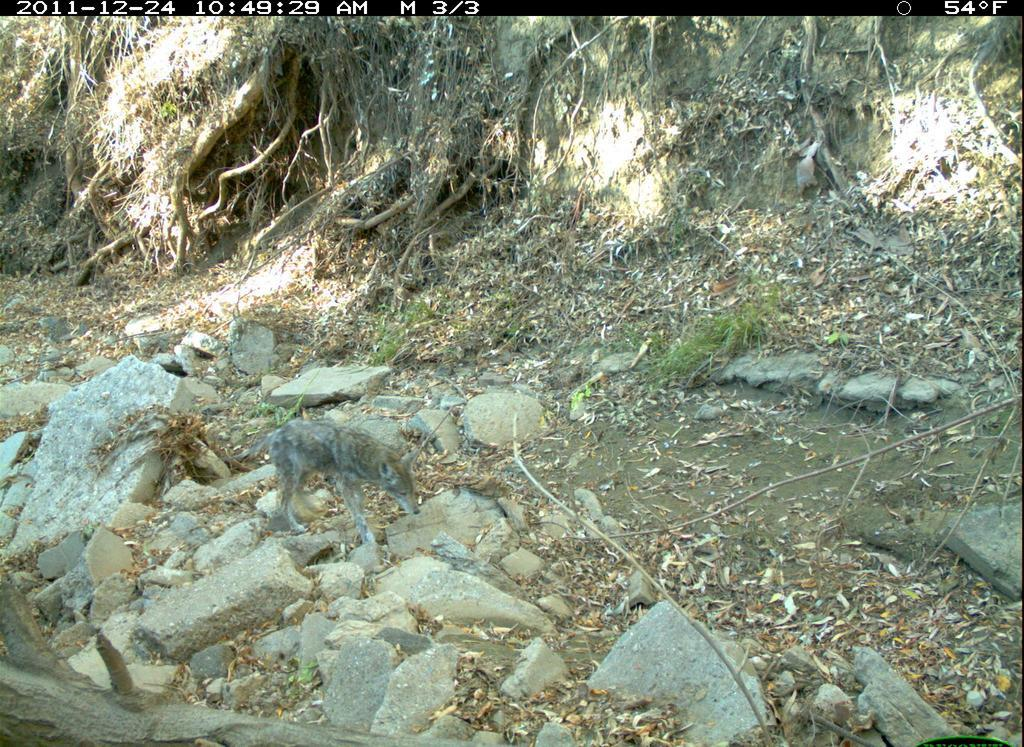coyote: (231, 415, 433, 551)
